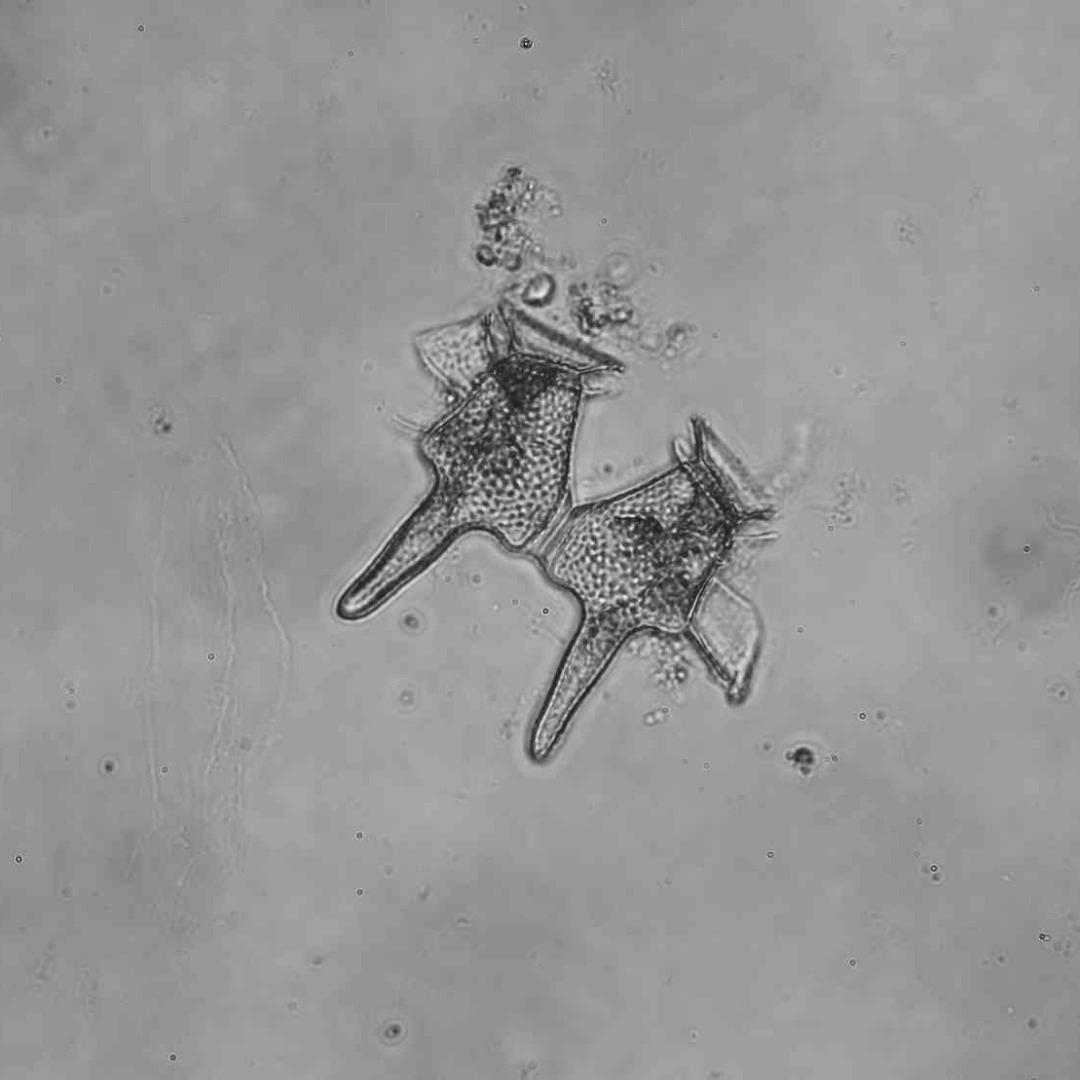dinophysis_caudata: (334, 298, 624, 624), (527, 415, 784, 760)
